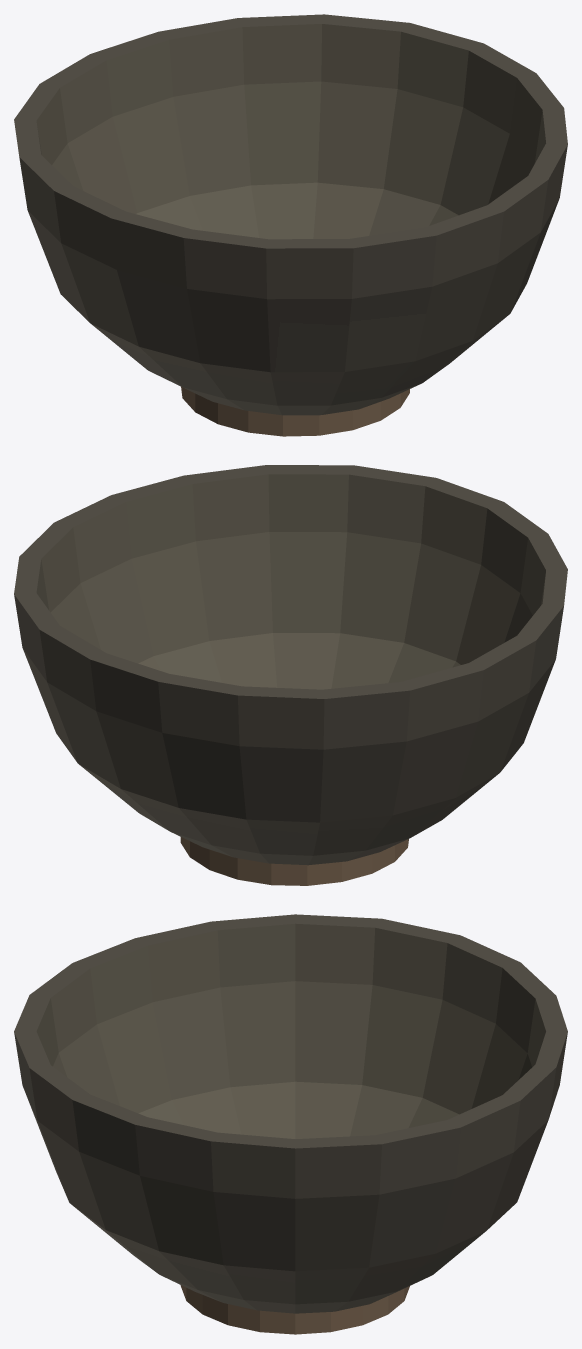
Rendered from antique-karatsu-bowl.glb.
3 renders of one model, top to bottom at view 1: azimuth 30°, elevation 25°; view 2: azimuth 150°, elevation 25°; view 3: azimuth 270°, elevation 25°, orthographic.
Visible parts, largest first — view 1: antique-karatsu-bowl/vessel-7, antique-karatsu-bowl/vessel-3, antique-karatsu-bowl/vessel-6, antique-karatsu-bowl/vessel-4, antique-karatsu-bowl/vessel-5, antique-karatsu-bowl/vessel-8, antique-karatsu-bowl/vessel-2, antique-karatsu-bowl/ring-foot-1, antique-karatsu-bowl/vessel-1; view 2: antique-karatsu-bowl/vessel-7, antique-karatsu-bowl/vessel-3, antique-karatsu-bowl/vessel-6, antique-karatsu-bowl/vessel-4, antique-karatsu-bowl/vessel-5, antique-karatsu-bowl/vessel-8, antique-karatsu-bowl/vessel-2, antique-karatsu-bowl/ring-foot-1, antique-karatsu-bowl/vessel-1; view 3: antique-karatsu-bowl/vessel-7, antique-karatsu-bowl/vessel-3, antique-karatsu-bowl/vessel-6, antique-karatsu-bowl/vessel-4, antique-karatsu-bowl/vessel-5, antique-karatsu-bowl/vessel-8, antique-karatsu-bowl/vessel-2, antique-karatsu-bowl/ring-foot-1, antique-karatsu-bowl/vessel-1.
Part boxes in pixels (box(x1,y1,x2,y2)): antique-karatsu-bowl/vessel-7: box(52, 81, 534, 215); antique-karatsu-bowl/vessel-3: box(28, 199, 559, 372); antique-karatsu-bowl/vessel-6: box(36, 24, 545, 164); antique-karatsu-bowl/vessel-4: box(19, 144, 567, 299); antique-karatsu-bowl/vessel-5: box(14, 14, 567, 248); antique-karatsu-bowl/vessel-8: box(136, 182, 458, 239); antique-karatsu-bowl/vessel-2: box(91, 315, 508, 405); antique-karatsu-bowl/ring-foot-1: box(181, 387, 409, 436); antique-karatsu-bowl/vessel-1: box(156, 374, 421, 415); antique-karatsu-bowl/vessel-7: box(50, 532, 532, 664); antique-karatsu-bowl/vessel-3: box(23, 649, 555, 822); antique-karatsu-bowl/vessel-6: box(36, 474, 545, 615); antique-karatsu-bowl/vessel-4: box(14, 594, 563, 749); antique-karatsu-bowl/vessel-5: box(14, 465, 567, 698); antique-karatsu-bowl/vessel-8: box(138, 633, 460, 689); antique-karatsu-bowl/vessel-2: box(79, 764, 499, 855); antique-karatsu-bowl/ring-foot-1: box(180, 837, 408, 885); antique-karatsu-bowl/vessel-1: box(171, 832, 408, 865); antique-karatsu-bowl/vessel-7: box(53, 981, 531, 1114); antique-karatsu-bowl/vessel-3: box(23, 1087, 548, 1271); antique-karatsu-bowl/vessel-6: box(36, 923, 545, 1067); antique-karatsu-bowl/vessel-4: box(14, 1032, 567, 1198); antique-karatsu-bowl/vessel-5: box(14, 914, 567, 1148); antique-karatsu-bowl/vessel-8: box(138, 1081, 459, 1138); antique-karatsu-bowl/vessel-2: box(71, 1204, 485, 1304); antique-karatsu-bowl/ring-foot-1: box(180, 1285, 409, 1334); antique-karatsu-bowl/vessel-1: box(161, 1275, 427, 1313).
Bounding box in the file's own units: 0.5 × 0.2536 × 0.5.
3 materials, 3 textured.
